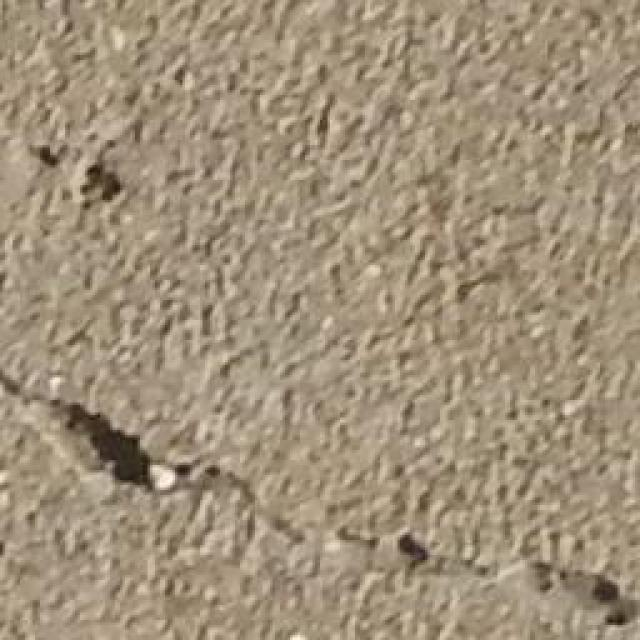concrete-crack: (4, 360, 637, 637)
